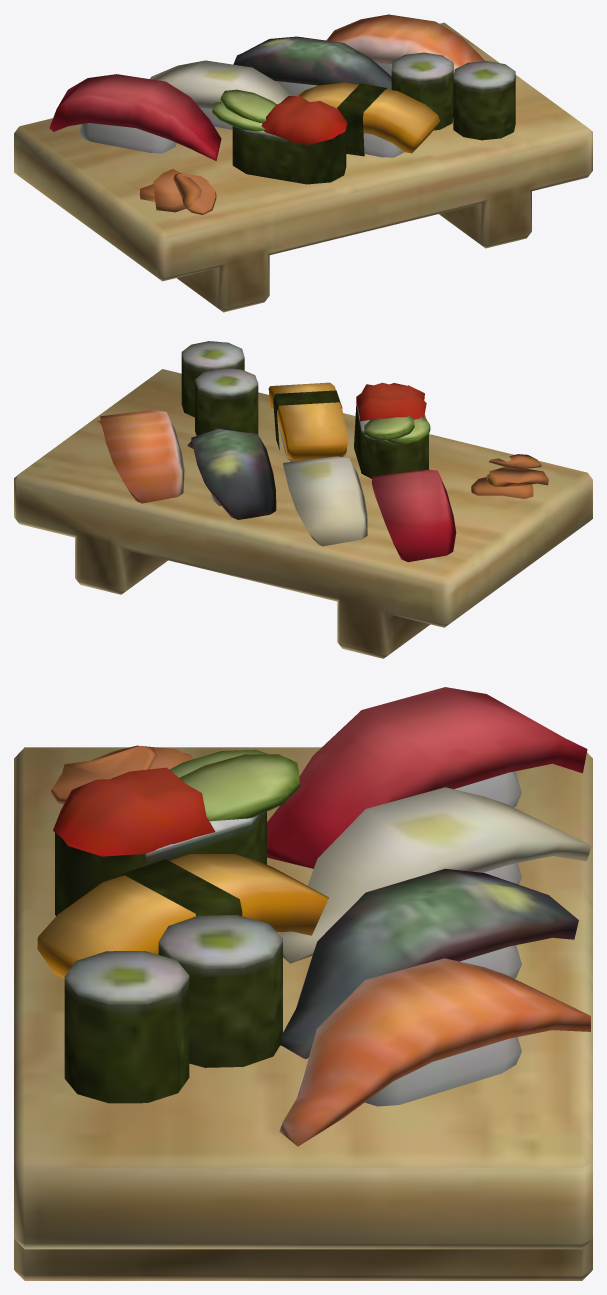
3 views of the same model, one above another, from view 1: azimuth 30°, elevation 25°; view 2: azimuth 150°, elevation 25°; view 3: azimuth 270°, elevation 25° (orthographic). The views are drawn at different scales.
Bounding box in the file's own units: 8.48 × 3.02 × 5.01.
Materials: 1 (1 with a texture image).
